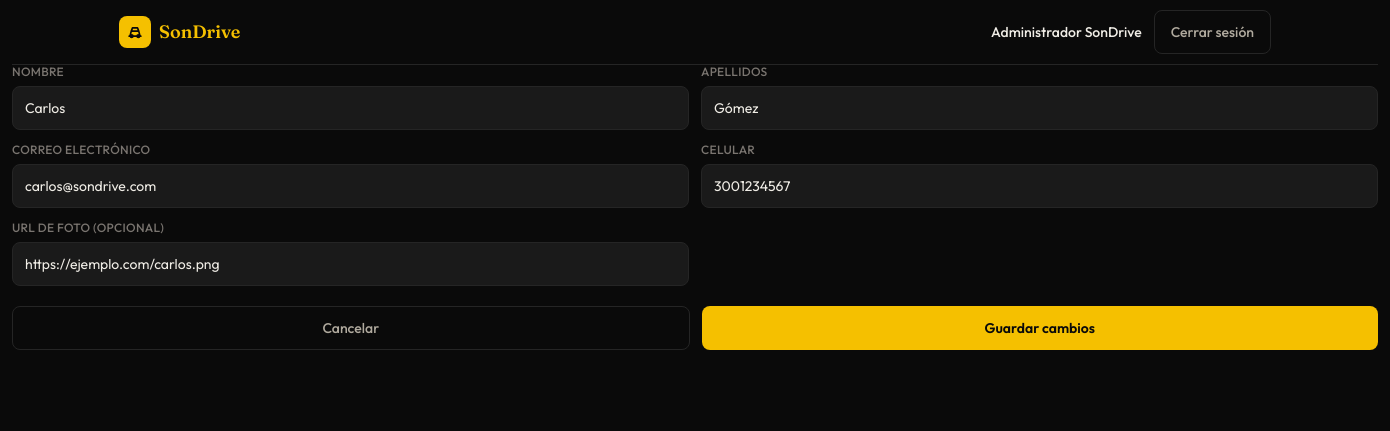
Scenario: FormularioEditarConductor › informa el correo repetido sin perder lo escrito
This screenshot has width=1390, height=431.
Replace the text in the field labelled "Correo electrónico" with "laura@sondrive.com" at (350, 186), box [12,164,689,208]
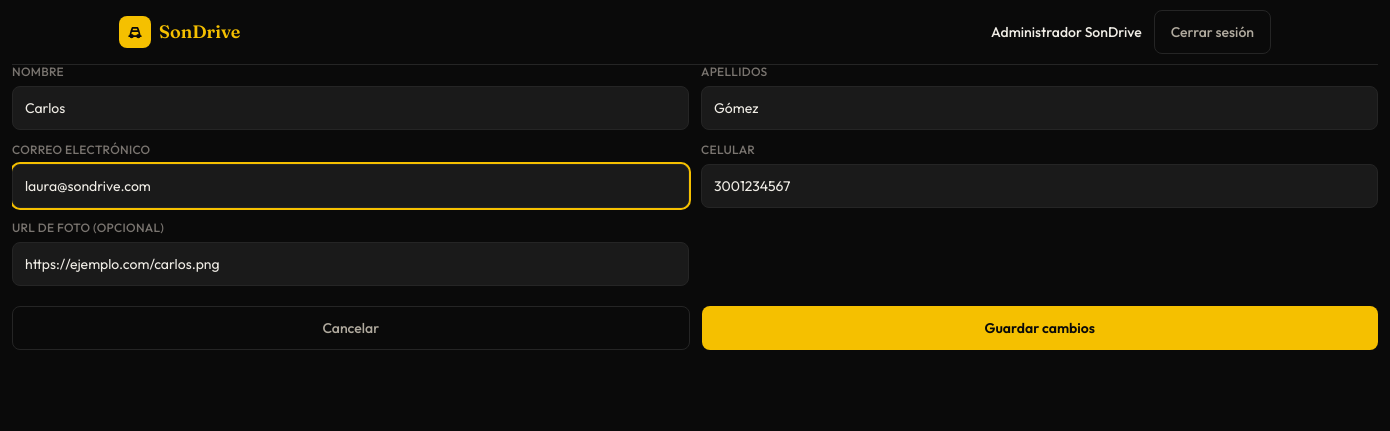
Click the button "Guardar cambios" at (1040, 328), box [702,306,1378,350]
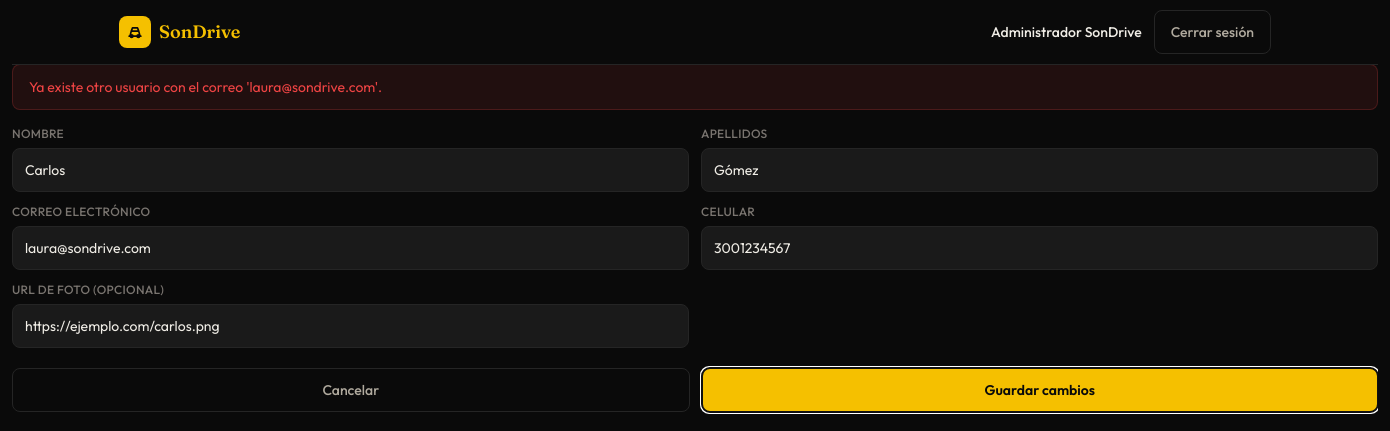
Expected: the text "Ya existe otro usuario con el correo 'laura@sondrive.com'." is shown, [29,77,382,97]
